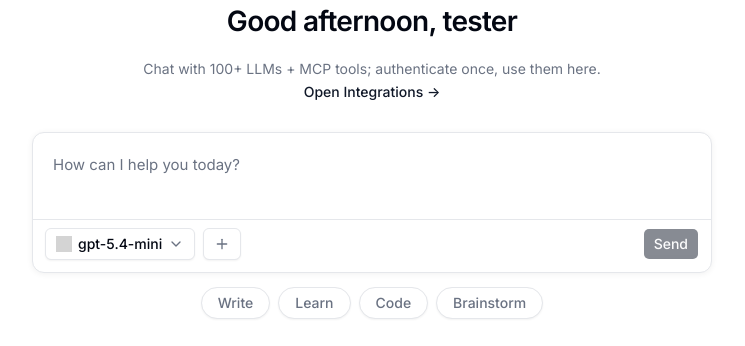
/ui/chat request metrics › renders latency, TTFT, token counts and cost reported for the assistant turn
This screenshot has width=745, height=346.
Expected: the button "gpt-5.4-mini" is shown, [45,228,195,260]
Type "How much did this cost?" into the text box with placeholder "How can I help you today?" at point(372, 172), box [33,132,711,212]
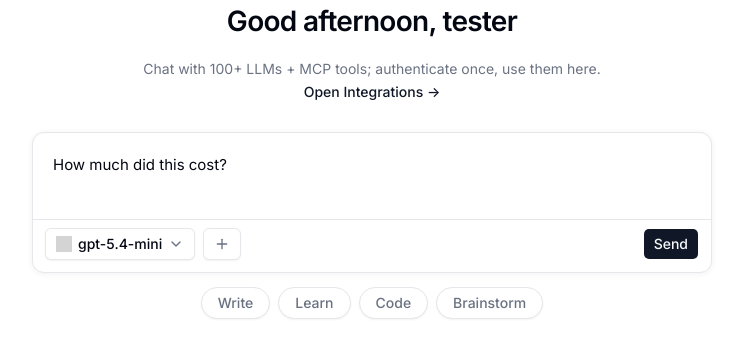
Click the button "Send" at point(671, 244), box [643,228,699,260]
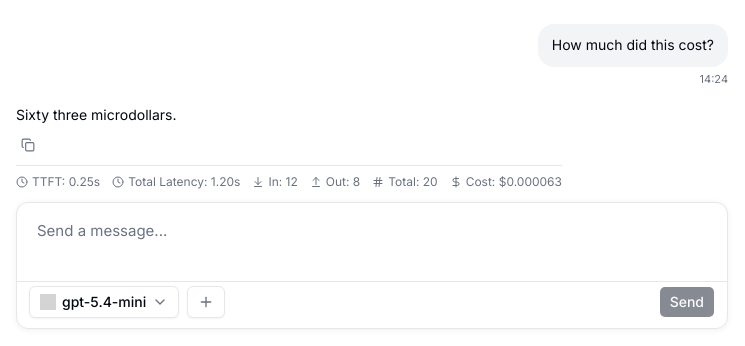
Now the element labelled "Total: 20" is shown, box [372,174,438,190]
Now the element labelled "TTFT: 0.25s" is shown, box [16,174,100,190]
Now the element labelled "Total Latency: 1.20s" is shown, box [112,174,240,190]
